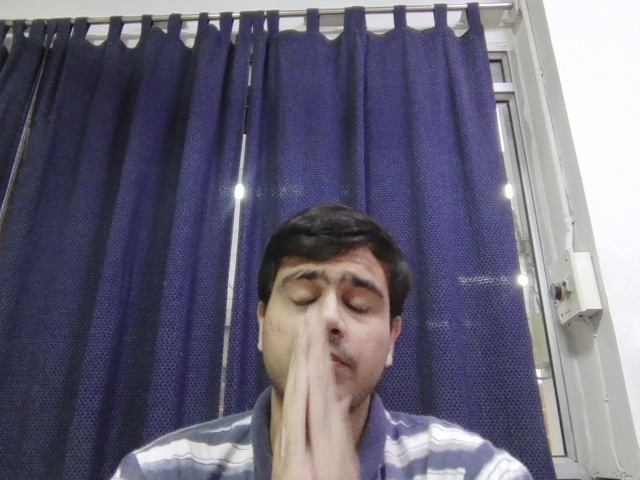face: (261, 215, 402, 319)
